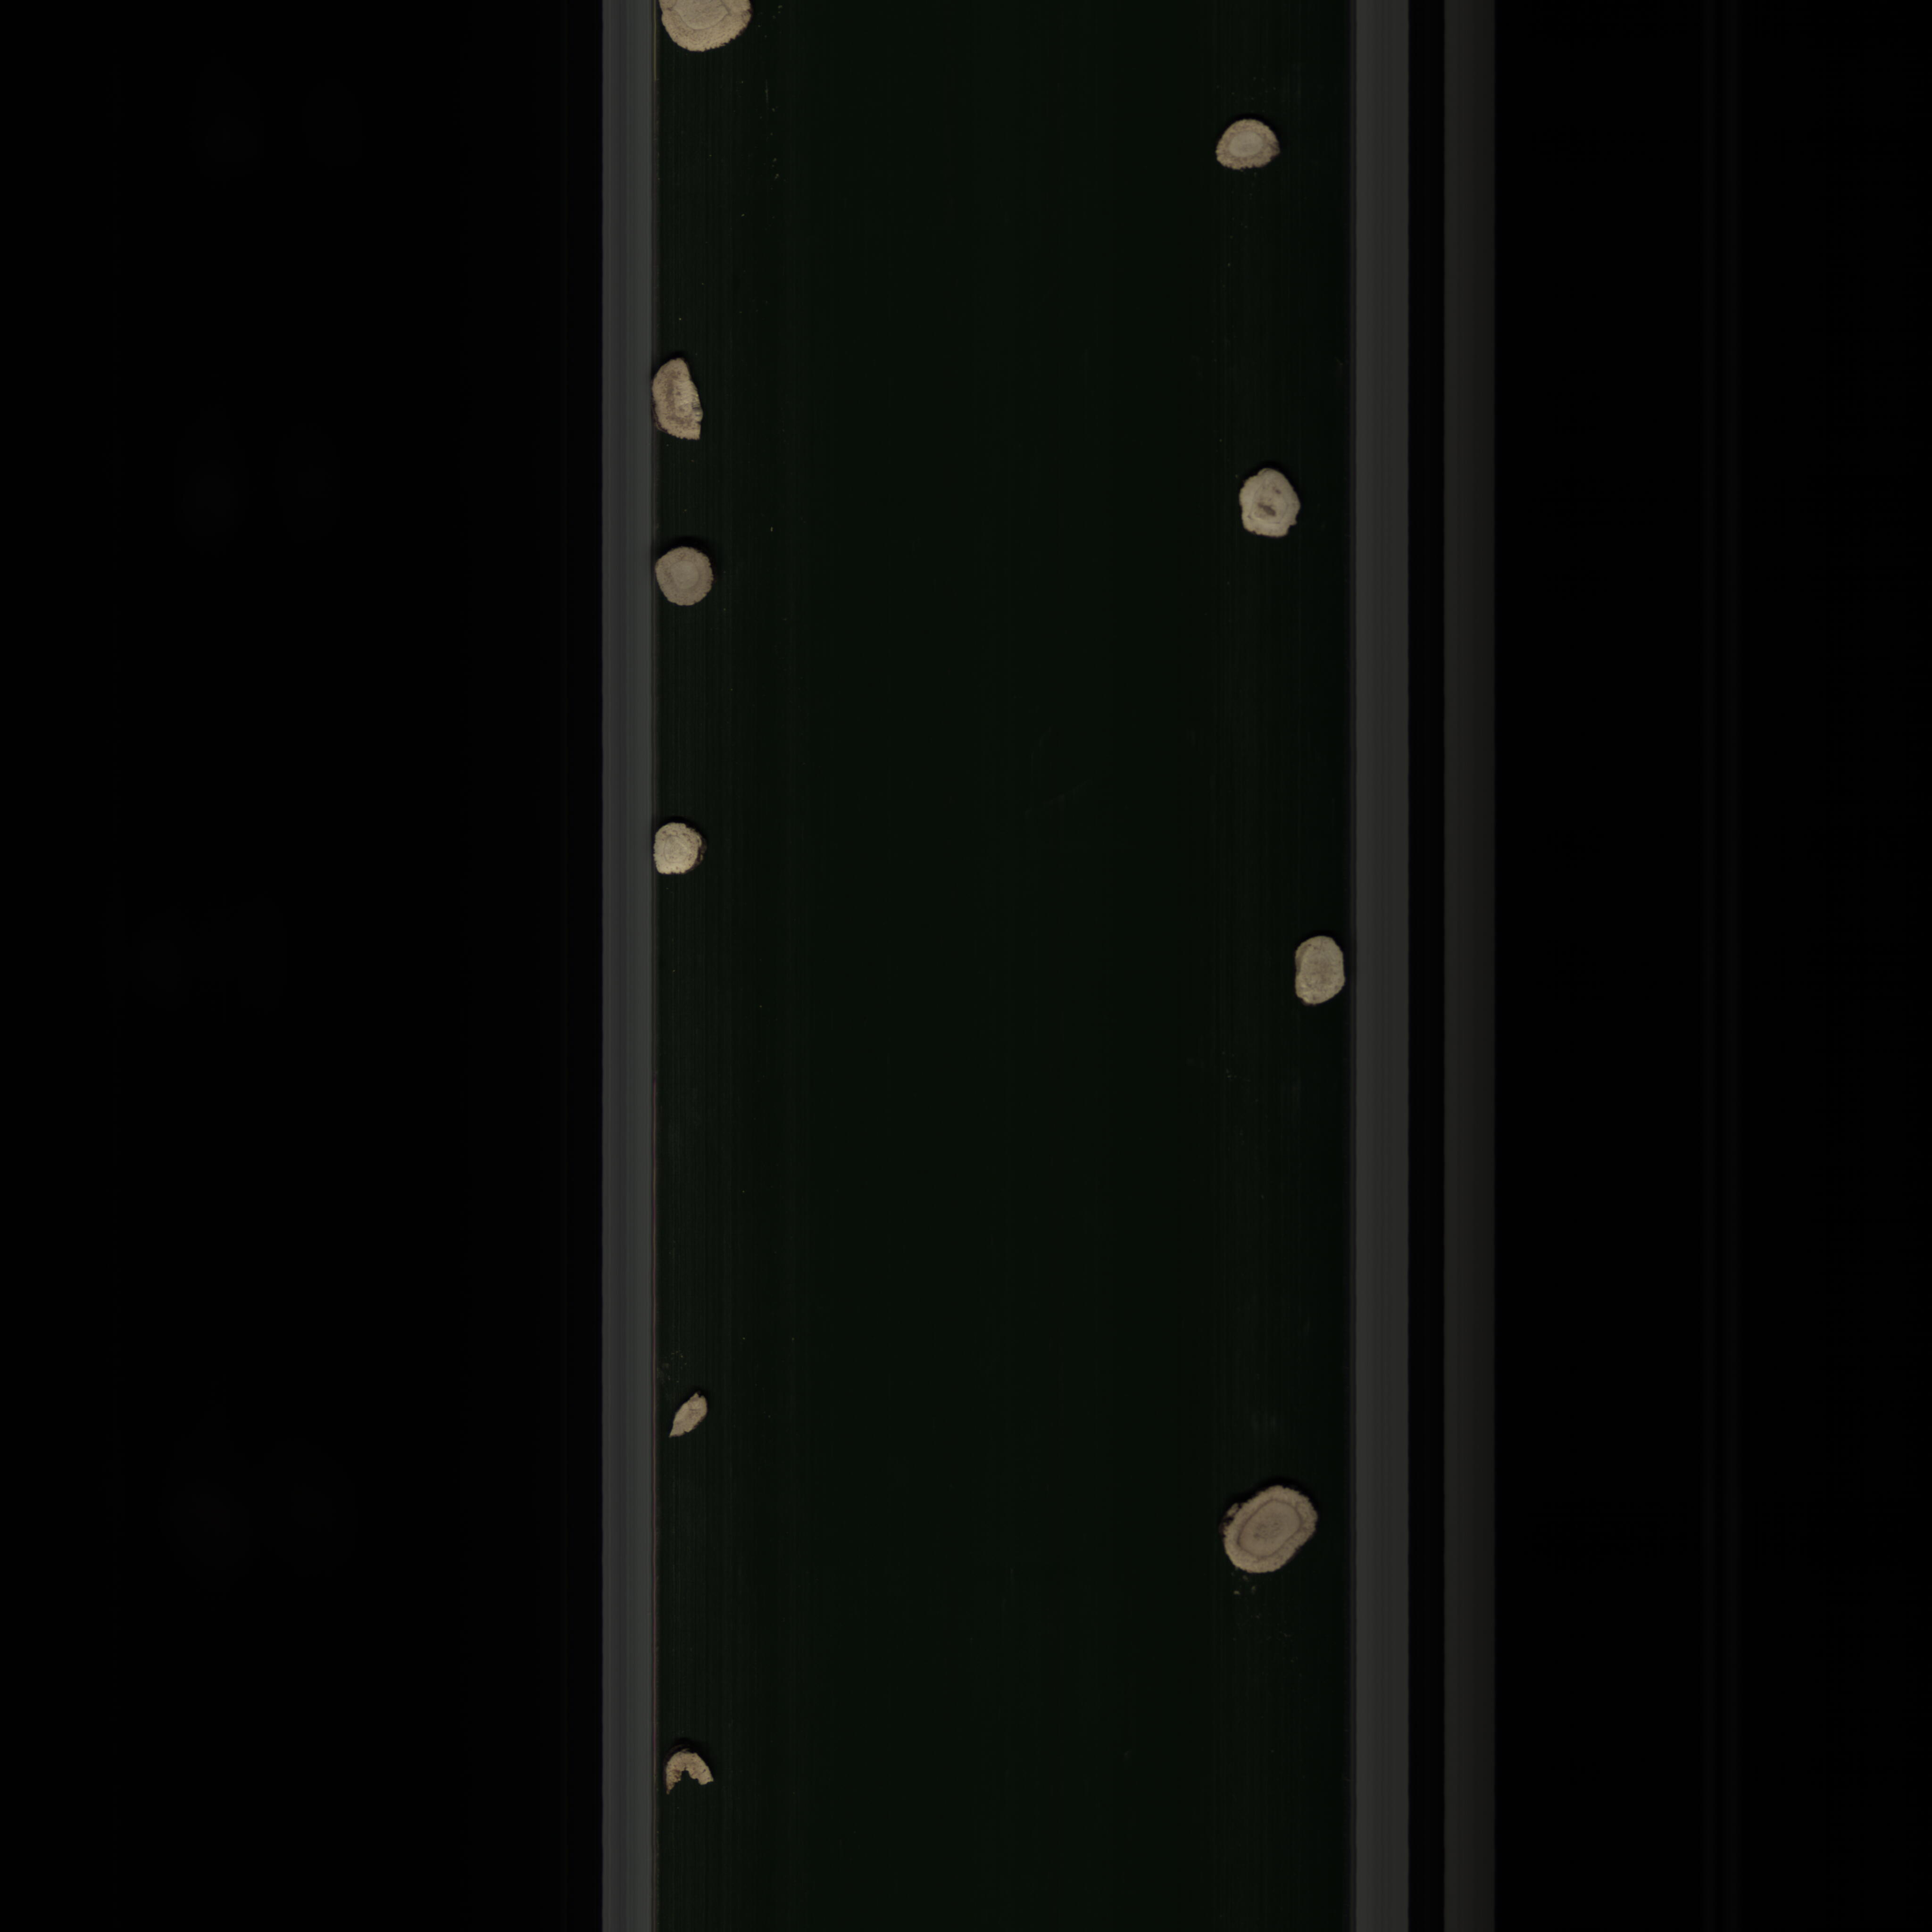debris: (648, 350, 711, 456), (662, 1739, 720, 1801), (662, 1389, 717, 1444)
